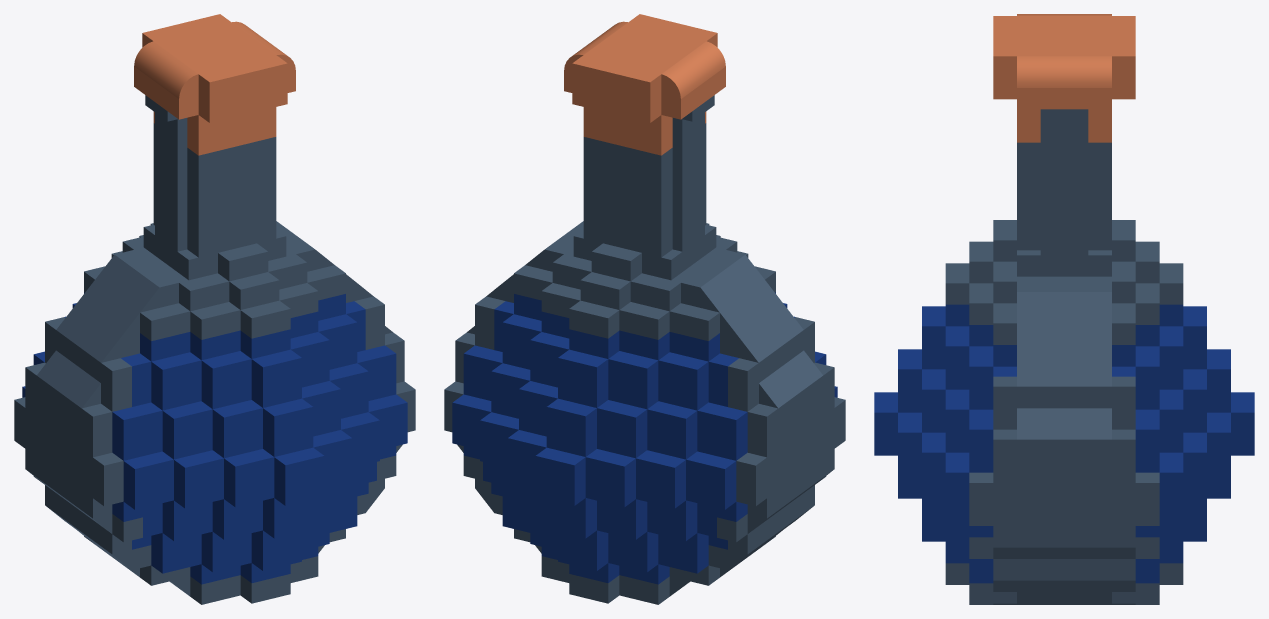
3 views of the same model, side by side, from view 1: azimuth 30°, elevation 25°; view 2: azimuth 150°, elevation 25°; view 3: azimuth 270°, elevation 25° (orthographic). The views are drawn at different scales.
Visible parts, largest first — view 1: generated(Clone); view 2: generated(Clone); view 3: generated(Clone).
Part boxes in pixels (bbox=[...]): generated(Clone): bbox=[14, 14, 415, 604]; generated(Clone): bbox=[444, 14, 845, 604]; generated(Clone): bbox=[874, 14, 1254, 604].
Size of the model in its own units: 16 by 25 by 16.
